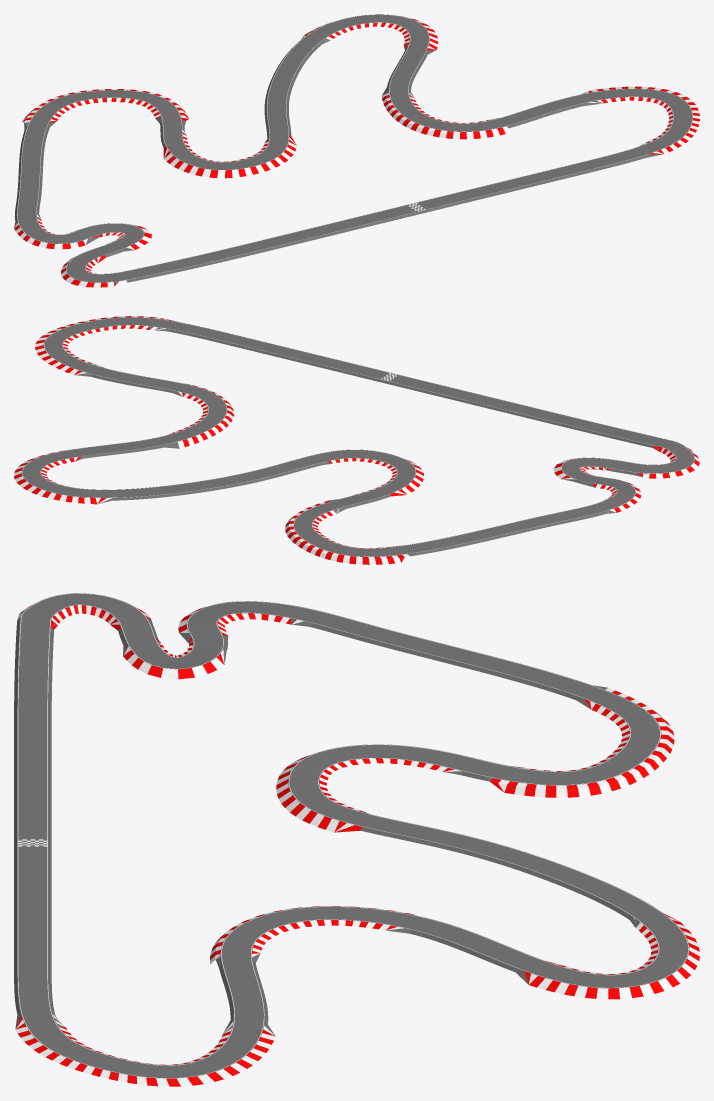
Rendered from TRACK 2 FINAL.fbx.
3 views of the same model, one above another, from view 1: azimuth 30°, elevation 25°; view 2: azimuth 150°, elevation 25°; view 3: azimuth 270°, elevation 25° (orthographic). The views are drawn at different scales.
Visible parts, largest first — view 1: Track ke 2; view 2: Track ke 2; view 3: Track ke 2.
Part boxes in pixels (x1,y1,x2,y2): Track ke 2: [14, 14, 699, 287]; Track ke 2: [14, 316, 699, 564]; Track ke 2: [14, 593, 699, 1086].
Bounding box in the file's own units: 373 × 3.46 × 219.
1 material, 1 textured.
